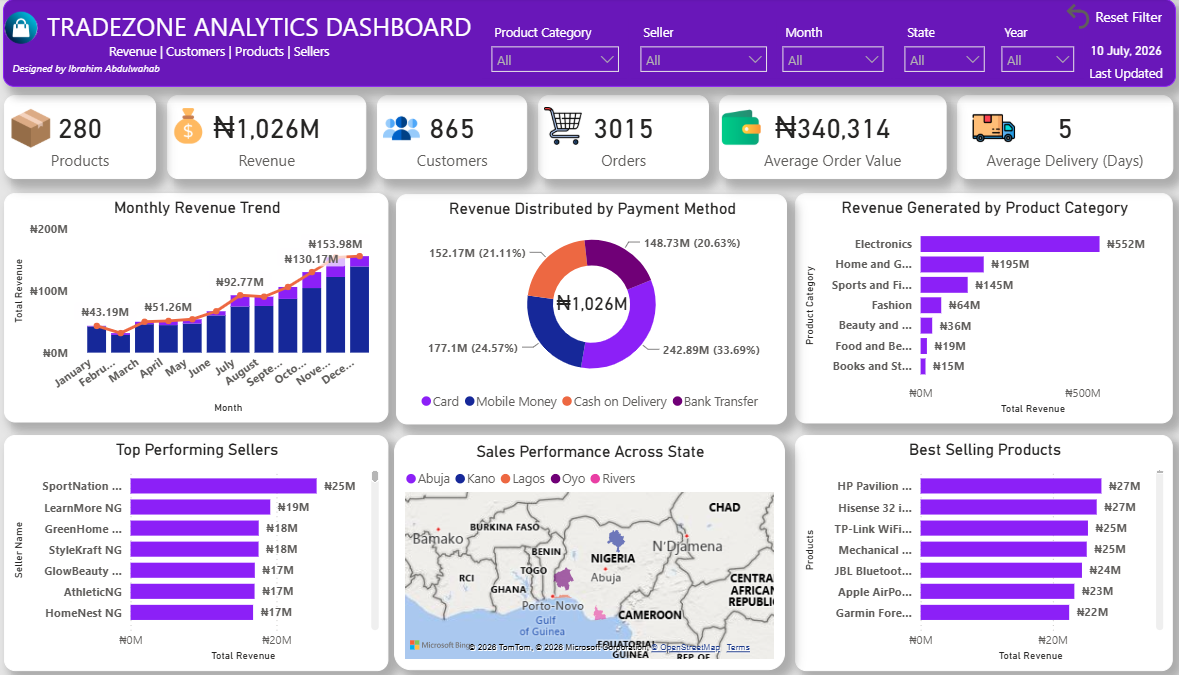

The dashboard page shown, as its layout file describes it:
{"tool":"powerbi","page":{"name":"Page 1","canvas":[1280,720],"ordinal":0},"visuals":[{"type":"textbox","box":[25.7,1.2,1241.5,93],"z":0,"group":"g8"},{"type":"card","fields":{"Values":["public customers.Total Customers"]},"box":[421.2,102.3,159.5,89.1],"z":1000,"group":"g5"},{"type":"card","fields":{"Values":["public orders.Average Order Value"]},"box":[784.1,102.3,240.8,89.1],"z":1000,"group":"g6"},{"type":"barChart","title":"Revenue Generated by Product Category","fields":{"Category":["public products.category"],"Y":["public order_items.Total Revenue"]},"box":[864.3,206.7,400.3,244.1],"z":1000},{"type":"slicer","fields":{"Values":["public products.category"]},"box":[532.9,22.4,155.1,63.1],"z":2000,"group":"g8"},{"type":"group","id":"g1","title":"Group 5","box":[591.6,102.3,181.4,89.1],"z":2000},{"type":"card","fields":{"Values":["public orders.total orders"]},"box":[591.6,102.3,181.4,89.1],"z":2000,"group":"g1"},{"type":"card","fields":{"Values":["public order_items.Total Revenue"]},"box":[198.6,102.3,211.1,89.1],"z":3000,"group":"g4"},{"type":"image","box":[784.1,112.6,47.3,46.8],"z":3000,"group":"g6"},{"type":"lineStackedColumnComboChart","title":"Monthly Revenue Trend","fields":{"Category":["public orders.order_date.Variation.Date Hierarchy.Month"],"Y":["public order_items.Total Revenue"],"Y2":["public order_items.Total Revenue"],"Series":["public orders.order_date.Variation.Date Hierarchy.Year"]},"box":[26.4,206.7,406.9,243],"z":3000},{"type":"card","fields":{"Values":["public products.Total Product"]},"box":[26.4,102.3,161.1,89.1],"z":4000,"group":"g7"},{"type":"group","id":"g2","title":"Group 7","box":[1035.9,102.3,228.7,89.1],"z":4000},{"type":"card","fields":{"Values":["public orders.Average Delivery Time (Days)"]},"box":[1035.9,102.3,228.7,89.1],"z":5000,"group":"g2"},{"type":"clusteredBarChart","title":"Top Performing Sellers","fields":{"Y":["public order_items.Total Revenue"],"Category":["public sellers.seller_name"]},"box":[26.4,463,406.9,249.6],"z":5000},{"type":"barChart","title":"Best Selling Products","fields":{"Y":["public order_items.Total Revenue"],"Category":["public products.product_name"]},"box":[864.3,463,400.3,249.6],"z":6000},{"type":"group","id":"g3","title":"Group 1","box":[441.8,207.5,414,243.5],"z":7000},{"type":"group","id":"g4","title":"Group 3","box":[198.6,102.3,211.1,89.1],"z":8000},{"type":"donutChart","title":"Revenue Distributed by Payment Method","fields":{"Category":["public payments.payment_method"],"Y":["Sum(public payments.amount)"]},"box":[441.8,207.5,414,243.5],"z":8000,"group":"g3"},{"type":"slicer","fields":{"Values":["public orders.order_date.Variation.Date Hierarchy.Month"]},"box":[840.9,22.4,127.3,63.1],"z":9000,"group":"g8"},{"type":"group","id":"g5","title":"Group 4","box":[421.2,102.3,159.5,89.1],"z":9000},{"type":"slicer","fields":{"Values":["public sellers.seller_name"]},"box":[690.1,22.4,154,63.1],"z":10000,"group":"g8"},{"type":"group","id":"g6","title":"Group 2","box":[784.1,102.3,240.8,89.1],"z":10000},{"type":"slicer","fields":{"Values":["public customers.state"]},"box":[970.3,22.4,104.8,63.1],"z":11000,"group":"g8"},{"type":"group","id":"g7","title":"Group 6","box":[26.4,102.3,161.1,89.1],"z":11000},{"type":"group","id":"g8","title":"Group 8","box":[25.7,1.1,1241.5,93.1],"z":12000},{"type":"slicer","fields":{"Values":["public orders.order_date.Variation.Date Hierarchy.Year"]},"box":[1072.9,22.4,97.3,63.1],"z":12000,"group":"g8"},{"type":"filledMap","title":"Sales Performance Across State","fields":{"Series":["public customers.state"],"Category":["public customers.state"]},"box":[439.5,463,413.8,249.2],"z":13000},{"type":"shape","box":[34.2,15.5,34.3,32.1],"z":14500,"group":"g9"},{"type":"image","box":[32.1,6.4,35.3,48.1],"z":15000,"group":"g9"},{"type":"group","id":"g9","title":"Group 9","box":[32.1,6.4,35.3,48.1],"z":15001},{"type":"card","fields":{"Values":["public customers.Last Refreshed"]},"box":[1163.8,37.4,101.6,56.7],"z":18000,"group":"g8"},{"type":"image","box":[1043.9,115.5,60.9,45.1],"z":19000,"group":"g2"},{"type":"actionButton","title":"Reset Filters","box":[1145.8,1.1,111.2,36.4],"z":19001,"group":"g8"},{"type":"image","box":[198.6,115.5,45.1,39.6],"z":20000,"group":"g4"},{"type":"card","fields":{"Values":["public order_items.Total Revenue"]},"box":[587.4,287.1,123,73.8],"z":20500,"group":"g3"},{"type":"image","box":[597.9,115.5,39.9,39.6],"z":21000,"group":"g1"},{"type":"image","box":[427.1,115.5,39.4,45.1],"z":23000,"group":"g5"},{"type":"image","box":[33.9,115.5,41.6,45.1],"z":24000,"group":"g7"}]}

Visuals, with their boxes in screenshot pixels (x1, y1, x2, y2), scaled from the page's 1280x720 canvas onto the 1179x675 screenshot:
textbox: (24,1,1167,88)
card - public customers.Total Customers: (388,96,535,179)
card - public orders.Average Order Value: (722,96,944,179)
"Revenue Generated by Product Category" barChart: (796,194,1165,423)
slicer - public products.category: (491,21,634,80)
"Group 5" group: (545,96,712,179)
card - public orders.total orders: (545,96,712,179)
card - public order_items.Total Revenue: (183,96,377,179)
image: (722,106,766,149)
"Monthly Revenue Trend" lineStackedColumnComboChart: (24,194,399,422)
card - public products.Total Product: (24,96,173,179)
"Group 7" group: (954,96,1165,179)
card - public orders.Average Delivery Time (Days): (954,96,1165,179)
"Top Performing Sellers" clusteredBarChart: (24,434,399,668)
"Best Selling Products" barChart: (796,434,1165,668)
"Group 1" group: (407,195,788,423)
"Group 3" group: (183,96,377,179)
"Revenue Distributed by Payment Method" donutChart: (407,195,788,423)
slicer - public orders.order_date.Variation.Date Hierarchy.Month: (775,21,892,80)
"Group 4" group: (388,96,535,179)
slicer - public sellers.seller_name: (636,21,777,80)
"Group 2" group: (722,96,944,179)
slicer - public customers.state: (894,21,990,80)
"Group 6" group: (24,96,173,179)
"Group 8" group: (24,1,1167,88)
slicer - public orders.order_date.Variation.Date Hierarchy.Year: (988,21,1078,80)
"Sales Performance Across State" filledMap: (405,434,786,668)
shape: (32,15,63,45)
image: (30,6,62,51)
"Group 9" group: (30,6,62,51)
card - public customers.Last Refreshed: (1072,35,1166,88)
image: (962,108,1018,151)
"Reset Filters" actionButton: (1055,1,1158,35)
image: (183,108,224,145)
card - public order_items.Total Revenue: (541,269,654,338)
image: (551,108,587,145)
image: (393,108,430,151)
image: (31,108,70,151)
